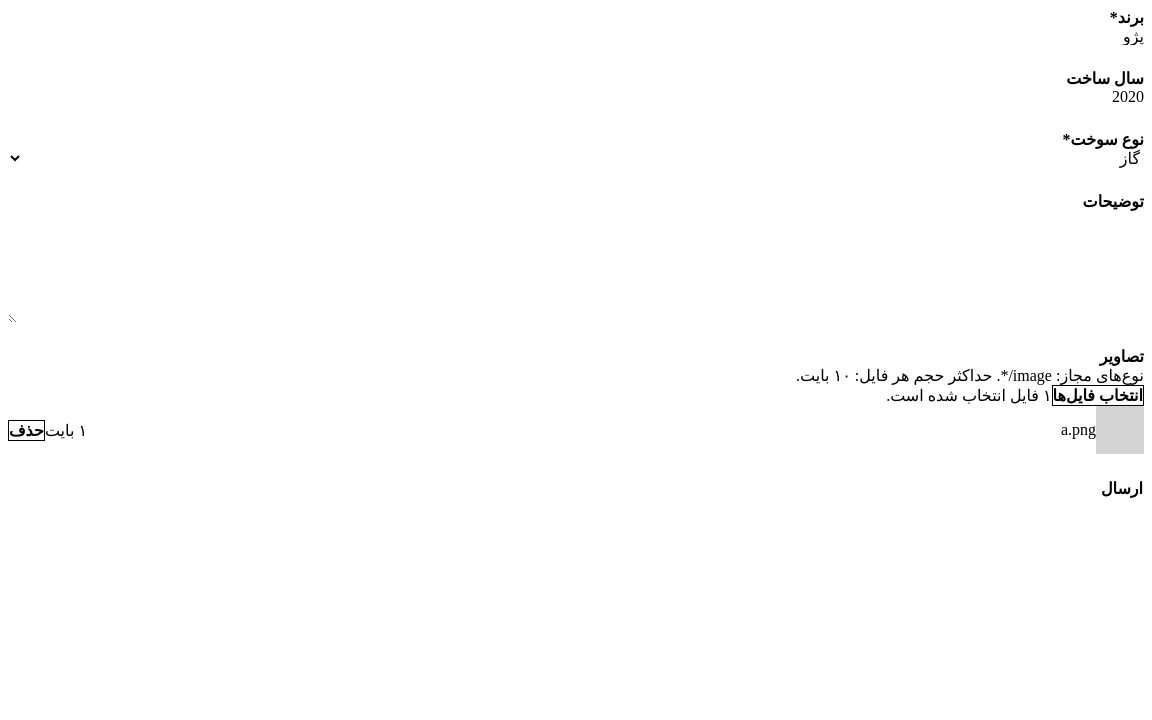
Test: other outcomes › clears a server error as soon as the person edits that field
The image size is (1152, 720).
Earlier steps of the test are not shown.
Click the button "ارسال" at {"x": 1122, "y": 488}, box [1100,478,1144,499]
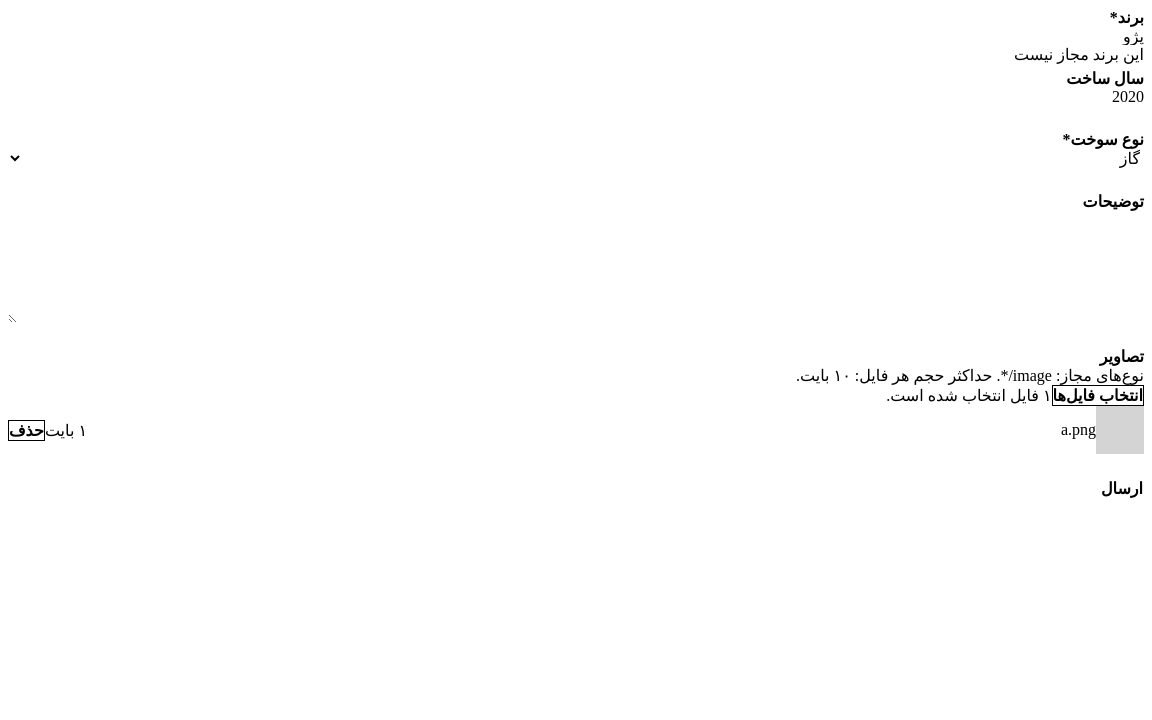
Result: the text "این برند مجاز نیست" is shown at [1014,46,1144,63]
Type "ی" into the field labelled "برند*" at {"x": 576, "y": 36}, box [8,27,1144,45]
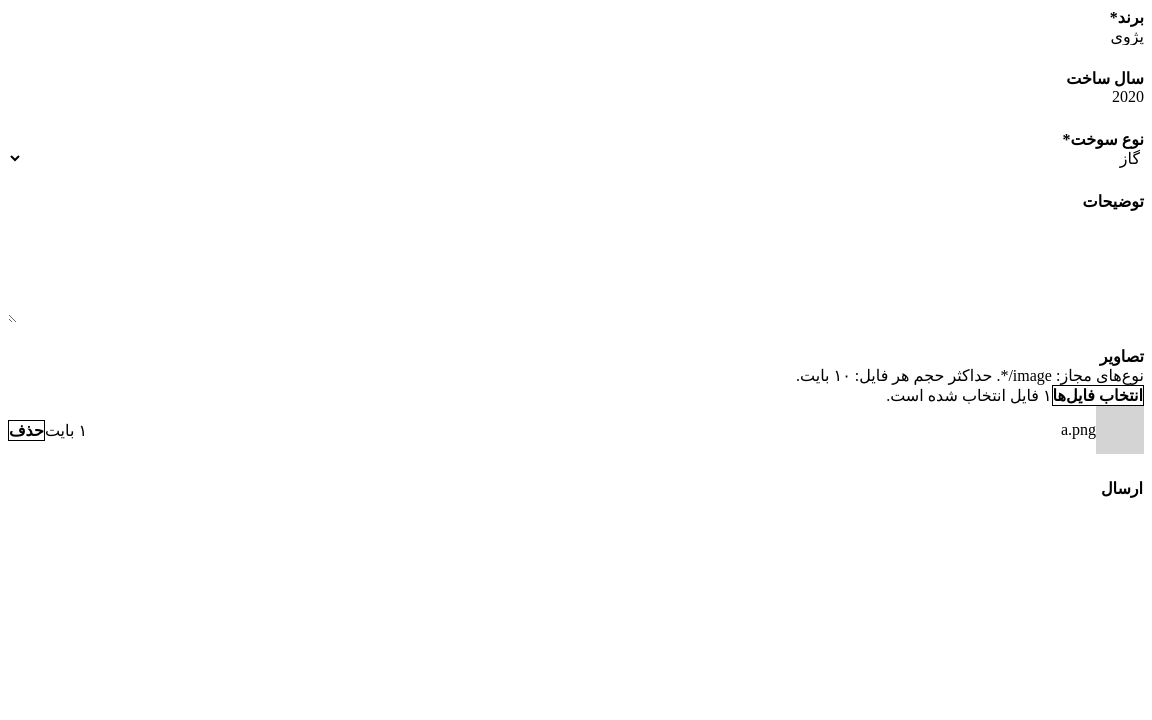
Result: the text "این برند مجاز نیست" is gone
